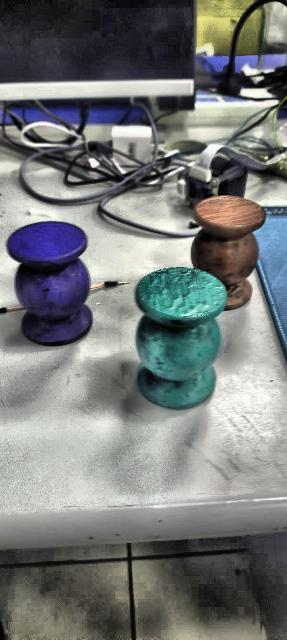blue: (8, 220, 92, 346)
green: (125, 269, 234, 416)
red: (192, 196, 264, 307)
